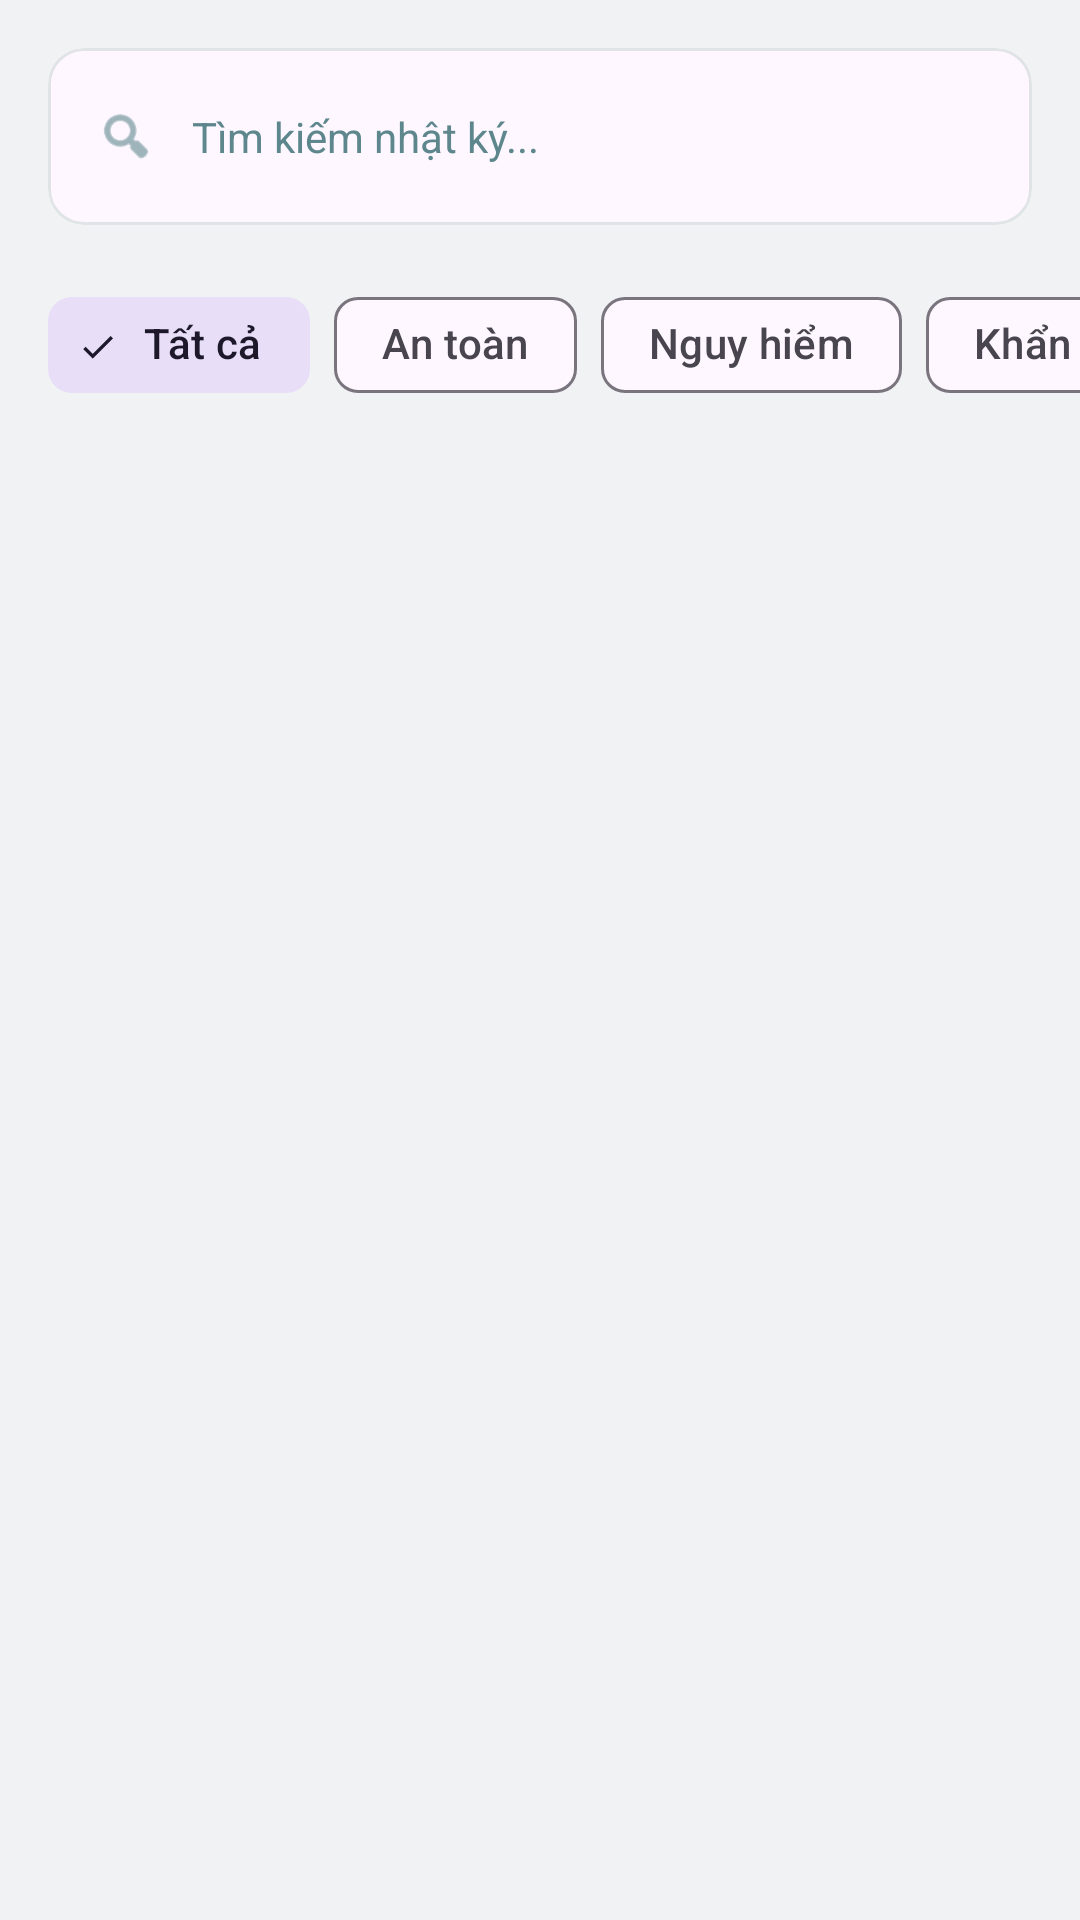

Icon bounding boxes for this 1080x1920 phone screenshot, format (x1, y1, x2, y2):
search: (104, 114, 148, 158)
